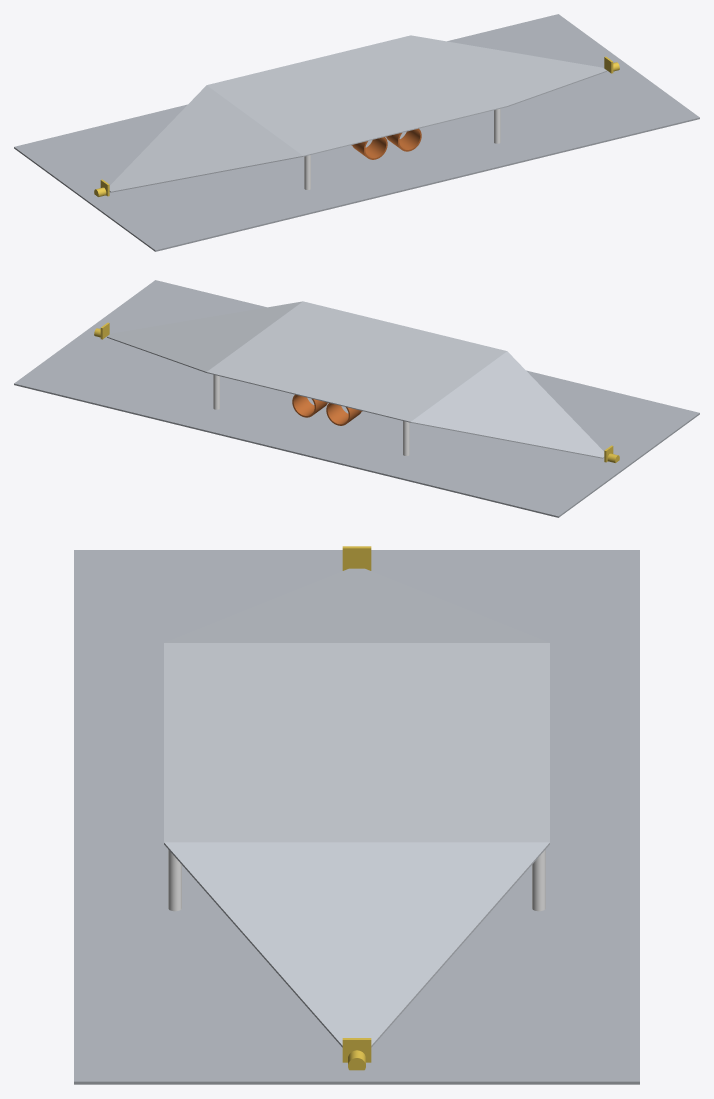
File: tem_fixture.glb
The picture shows the model from 3 angles, top to bottom: view 1: azimuth 30°, elevation 25°; view 2: azimuth 150°, elevation 25°; view 3: azimuth 270°, elevation 25°; orthographic projection. The views are drawn at different scales.
Visible parts, largest first — view 1: Ground plate (Al 3 mm), Top strip with tapers (Al 2 mm), Meta-atom loop x1y0, Meta-atom loop x0y0, PTFE support posts; view 2: Ground plate (Al 3 mm), Top strip with tapers (Al 2 mm), Meta-atom loop x1y3, Meta-atom loop x0y3, PTFE support posts; view 3: Ground plate (Al 3 mm), Top strip with tapers (Al 2 mm), PTFE support posts, N-type panel jack A.
Boxes of the visible parts, bbox=[...] form: Ground plate (Al 3 mm): bbox=[14, 14, 699, 251]; Top strip with tapers (Al 2 mm): bbox=[109, 35, 606, 192]; Meta-atom loop x1y0: bbox=[386, 128, 421, 151]; Meta-atom loop x0y0: bbox=[352, 137, 387, 159]; PTFE support posts: bbox=[304, 108, 500, 189]; Ground plate (Al 3 mm): bbox=[14, 280, 699, 517]; Top strip with tapers (Al 2 mm): bbox=[107, 301, 604, 458]; Meta-atom loop x1y3: bbox=[292, 394, 327, 417]; Meta-atom loop x0y3: bbox=[326, 403, 361, 425]; PTFE support posts: bbox=[213, 374, 409, 455]; Ground plate (Al 3 mm): bbox=[74, 550, 639, 1084]; Top strip with tapers (Al 2 mm): bbox=[164, 568, 549, 1047]; PTFE support posts: bbox=[168, 850, 545, 911]; N-type panel jack A: bbox=[342, 1038, 371, 1070].
Bounding box in the file's own units: 1120 × 76 × 504.
